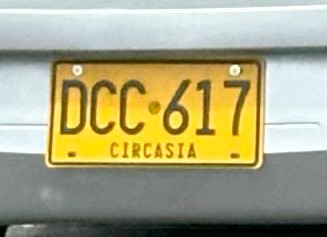number plate: (47, 59, 263, 167)
